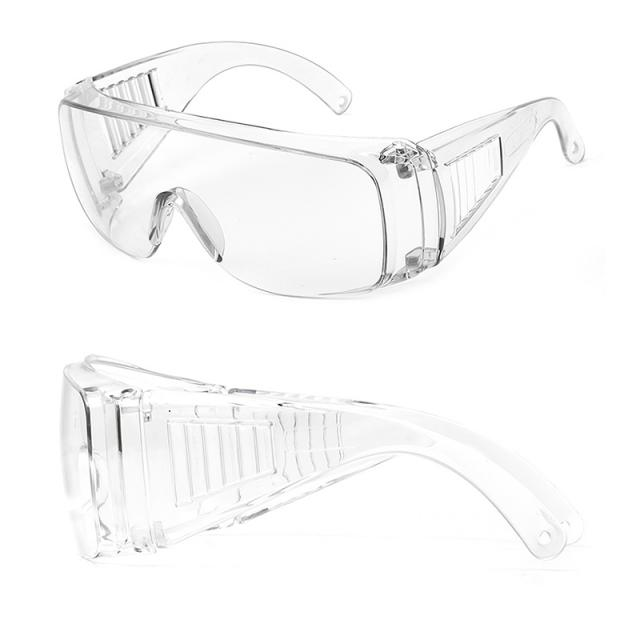Protective Glasses: (28, 332, 600, 609), (34, 29, 599, 308)
